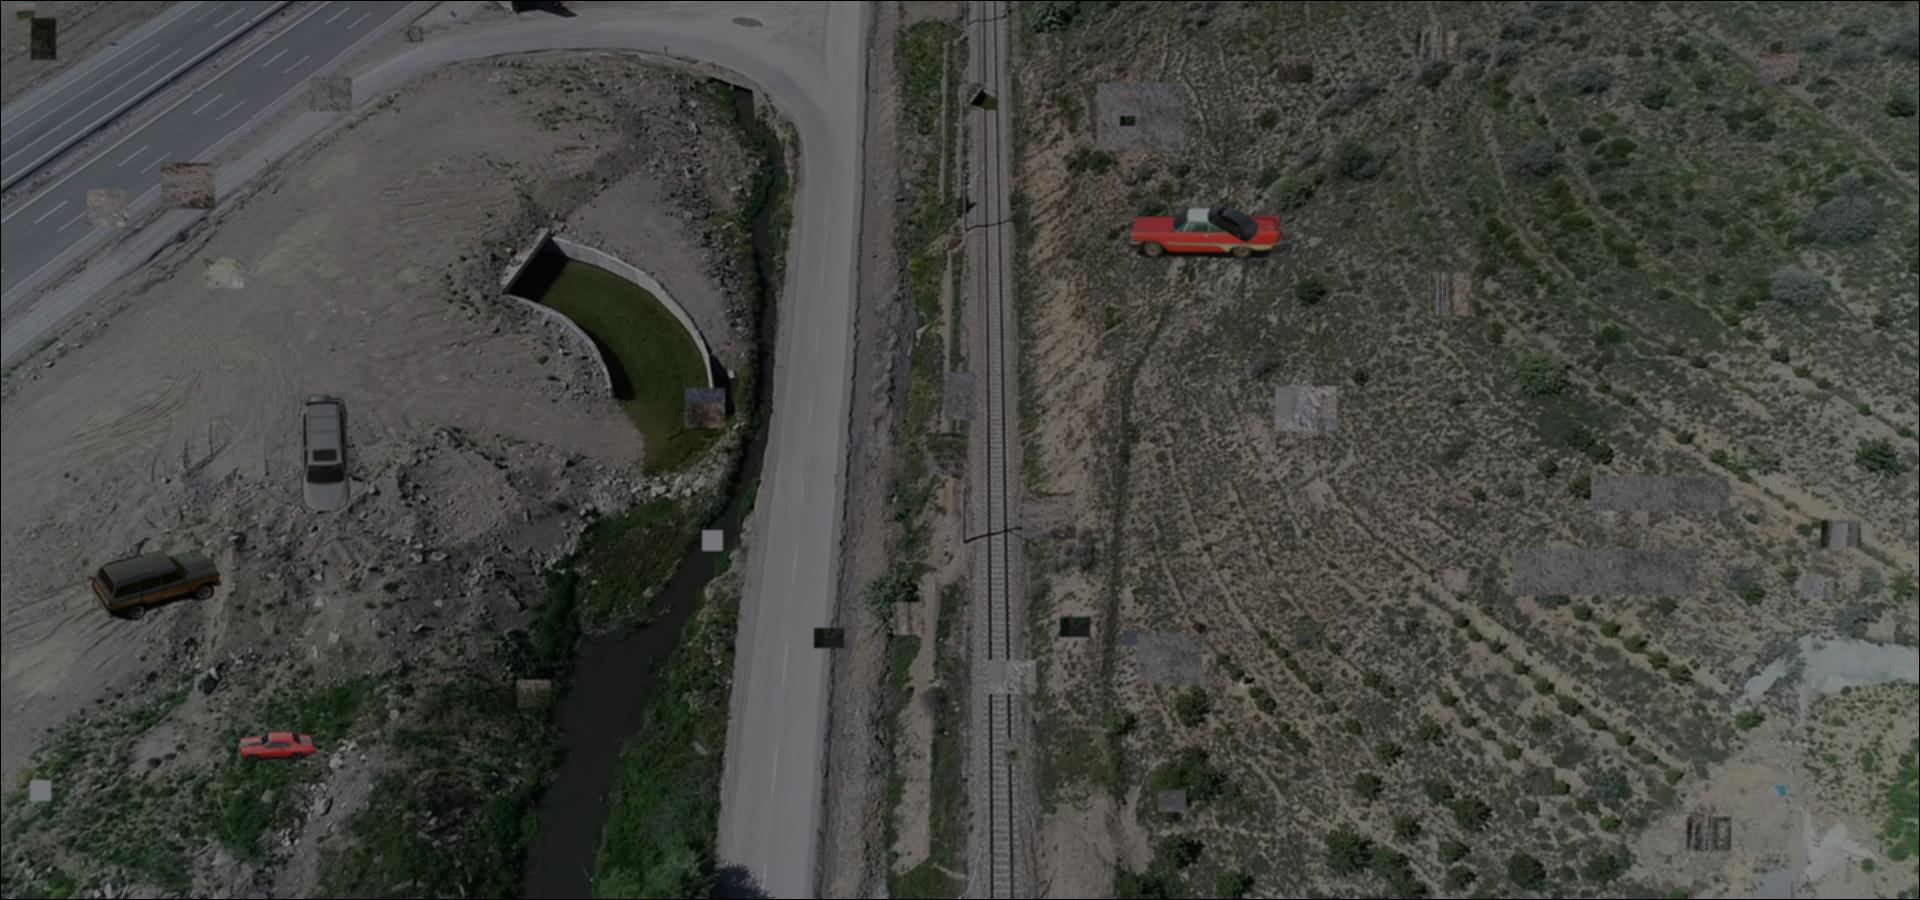arac: (91, 551, 222, 620), (1127, 208, 1286, 261), (294, 396, 354, 512), (235, 730, 318, 763), (1209, 204, 1259, 242)
